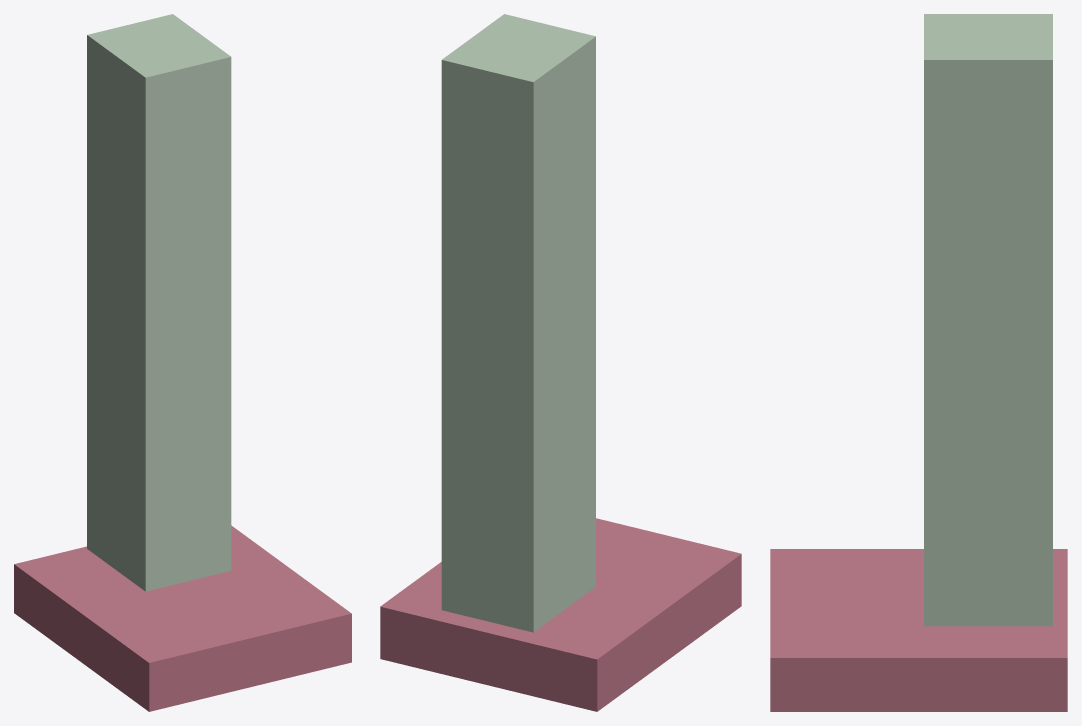
File: 199511_pred.glb
3 views of the same model, side by side, from view 1: azimuth 30°, elevation 25°; view 2: azimuth 150°, elevation 25°; view 3: azimuth 270°, elevation 25° (orthographic). The views are drawn at different scales.
Parts seen in each view (by area): view 1: world; view 2: world; view 3: world.
Boxes of the visible parts, <box> form: world: <box>14,14,351,711</box>; world: <box>380,14,741,711</box>; world: <box>770,14,1067,711</box>.
Size of the model in its own units: 2.6 by 6.95 by 3.
